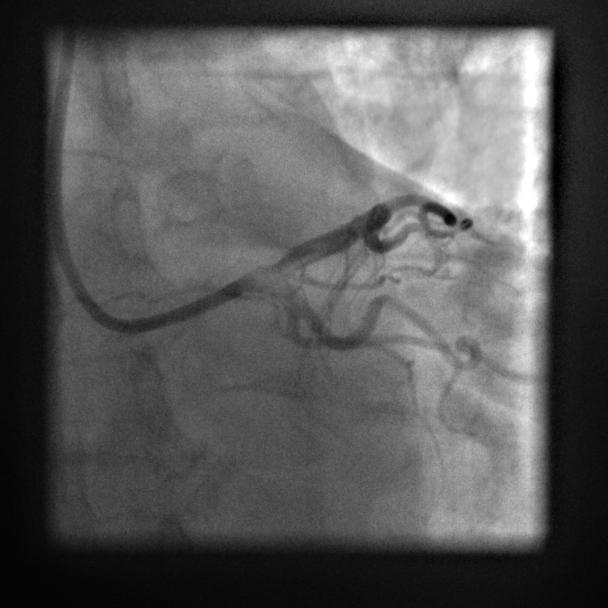Stenosis: (263, 251, 301, 281)
